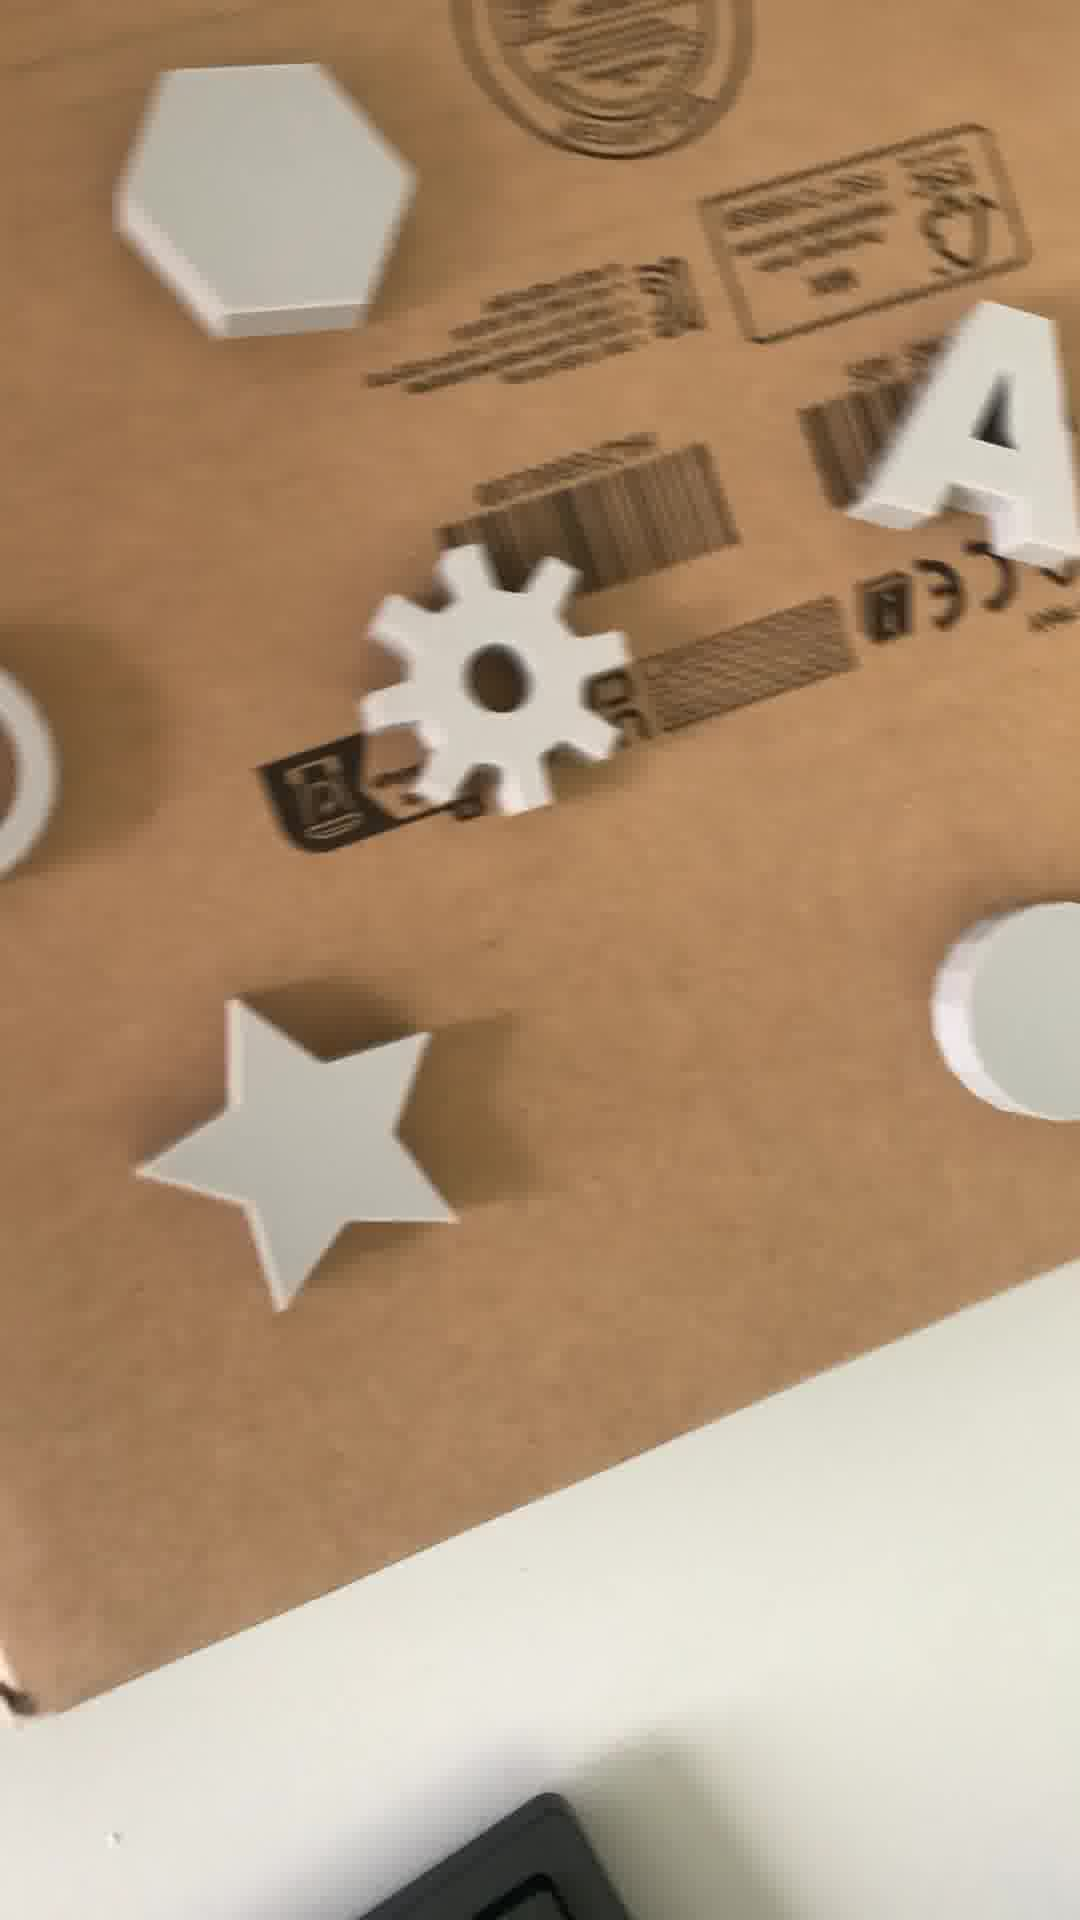Gray A-letter: (857, 287, 1080, 604)
Gray circle: (935, 895, 1080, 1131)
Gray gear: (335, 546, 632, 825)
Gray hexagon: (92, 46, 443, 342)
Gray ring: (1, 671, 59, 901)
Gray star: (138, 978, 463, 1324)
